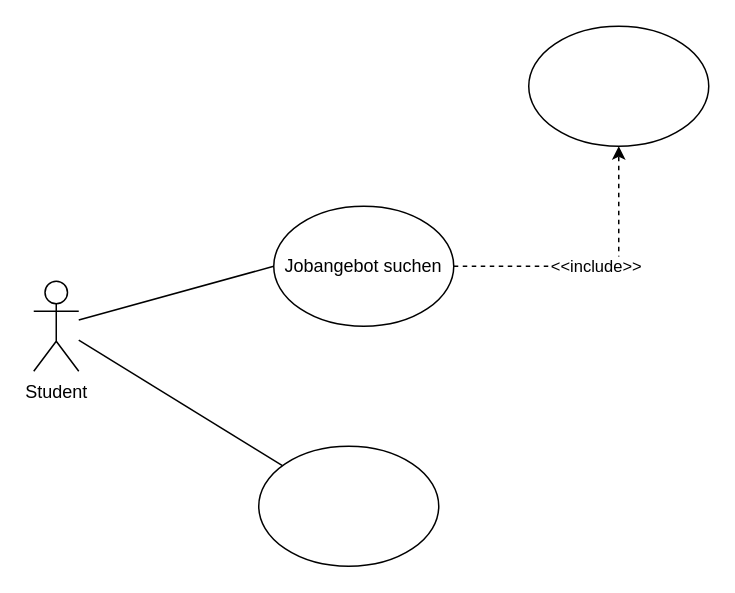
This 735x593 diagram has some shape labels left out. Each missing label, with the centre of its shape:
"Jobangbot favorisieren" belongs at pixel 348 505.
"Verwaltung der Jobsuche" belongs at pixel 618 85.
